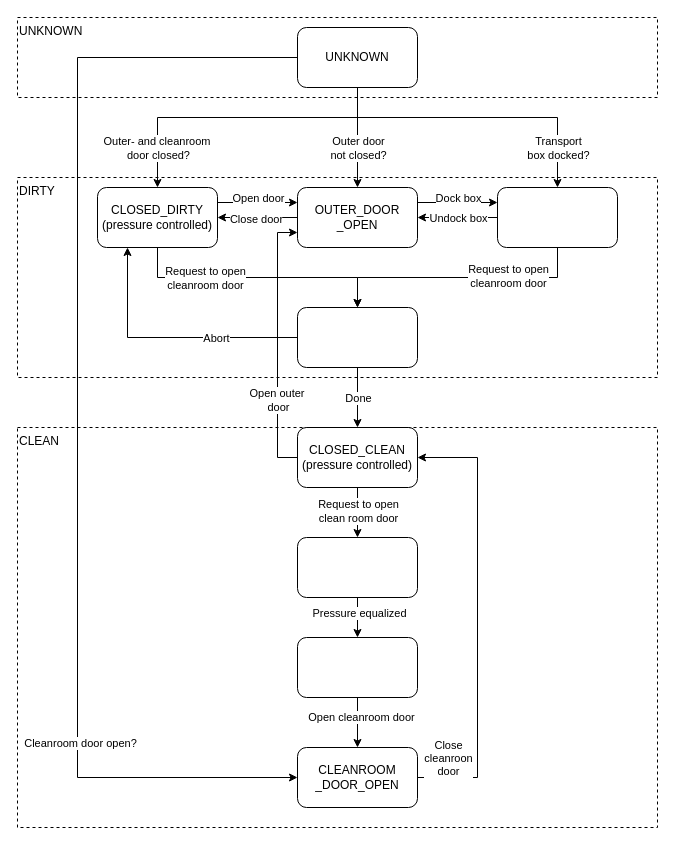
Image size: 675x845. Some labels were removed from this diagram. Each missing label, with the centre of its shape:
"EQUALIZE_TO _CLEANROOM" belongs at point 357,567.
"EQUALIZED_TO _CLEANROOM (cleanroom door may be opened)" belongs at point 357,667.
"FLUSHING" belongs at point 357,337.
"TRANSPORT_BOX _DOCKED" belongs at point 557,217.
